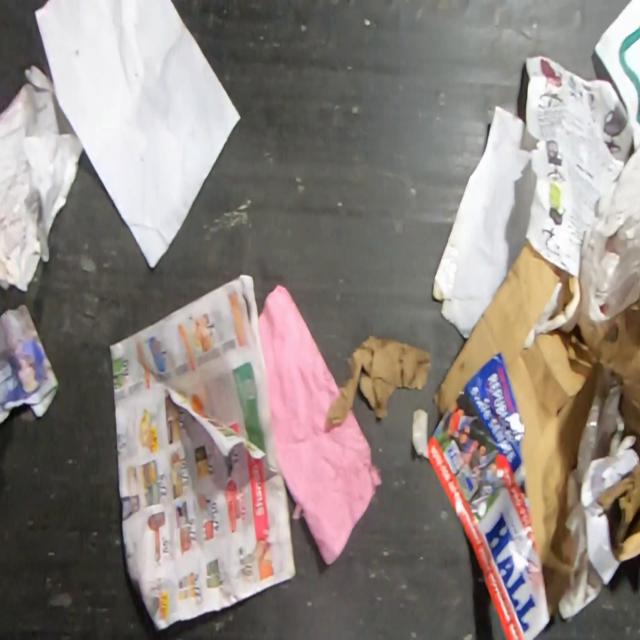cardboard: (431, 241, 640, 621)
soft_plastic: (534, 142, 640, 337), (564, 367, 626, 590)
